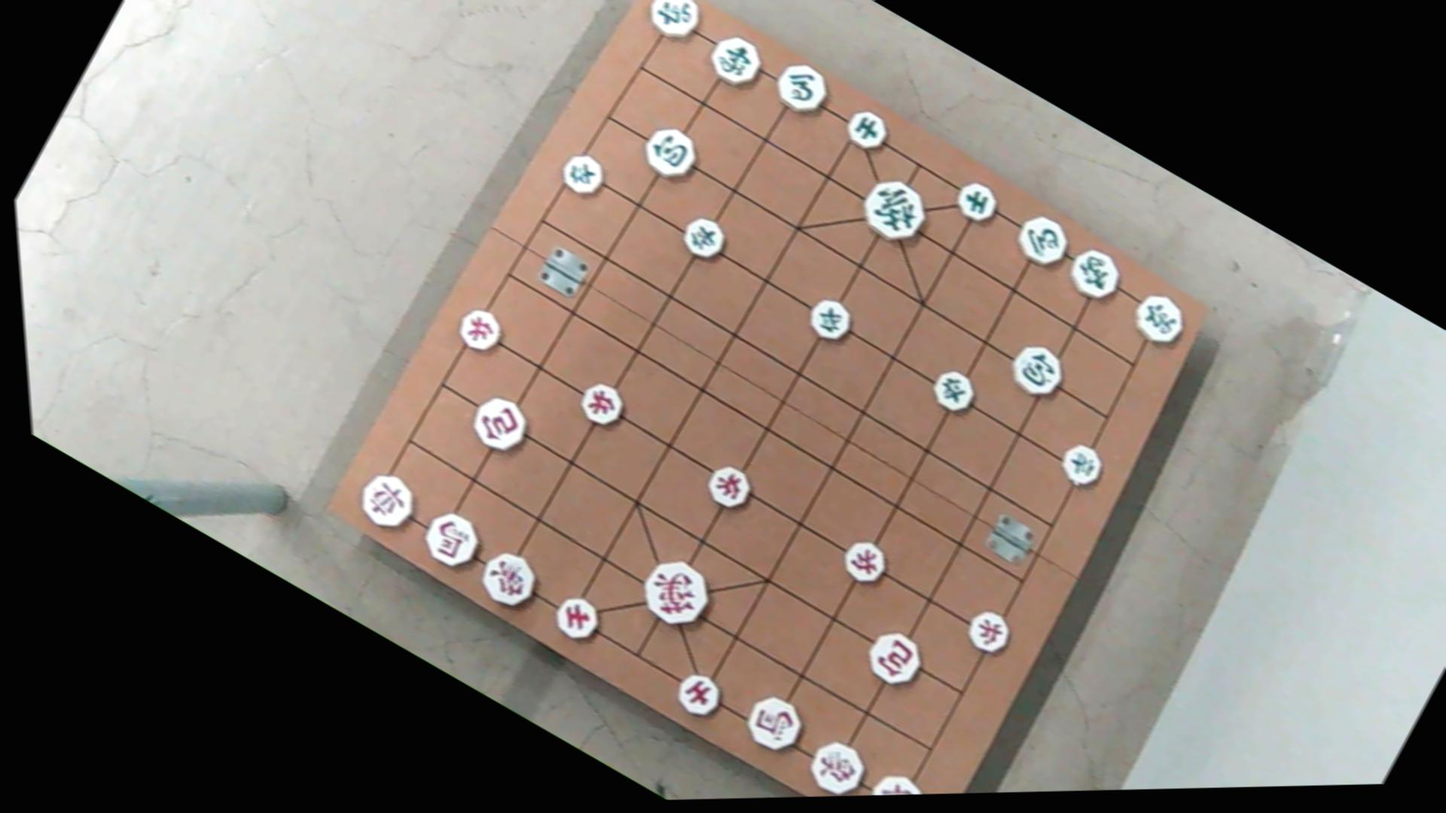cha_green: (1124, 288, 1194, 352), (639, 0, 710, 47)
cha_red: (347, 465, 424, 536), (858, 767, 933, 795)
jol_green: (924, 365, 984, 419), (1052, 440, 1111, 494), (676, 212, 735, 265), (555, 149, 615, 201), (801, 294, 860, 346)
jol_red: (569, 373, 635, 434), (831, 531, 897, 590), (956, 603, 1018, 661), (699, 460, 762, 516), (450, 302, 513, 358)
ma_green: (1005, 209, 1077, 275), (767, 56, 838, 120)
ma_red: (414, 505, 491, 576), (734, 687, 811, 758)
po_green: (635, 120, 707, 187), (1000, 338, 1072, 403)
po_red: (462, 388, 537, 456), (857, 625, 932, 693)
sa_green: (837, 105, 894, 157), (948, 178, 1004, 227)
sa_red: (543, 588, 609, 649), (666, 665, 731, 725)
sang_green: (698, 26, 775, 96), (1058, 242, 1130, 308)
sang_red: (470, 544, 548, 615), (796, 733, 876, 796)
wang_green: (850, 172, 937, 251)
wang_red: (629, 553, 722, 638)
